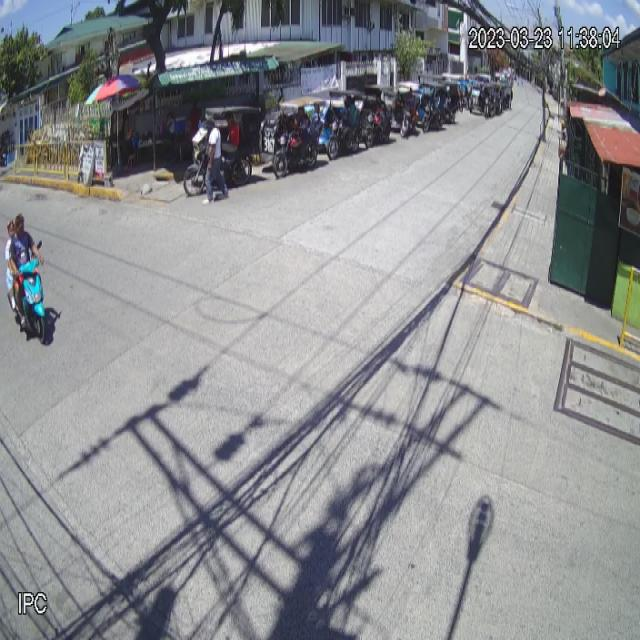Motorcycle: (14, 240, 50, 344)
